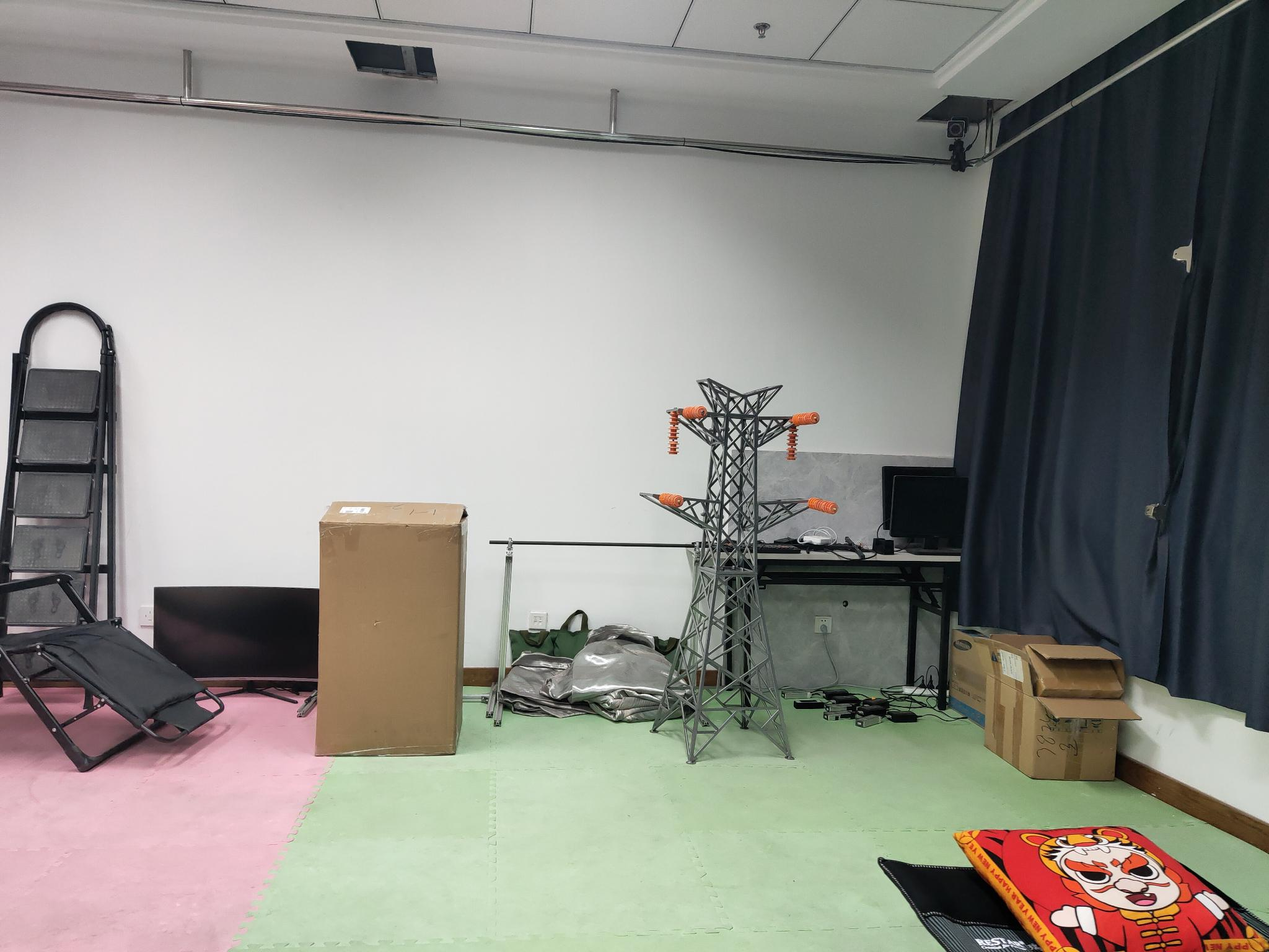tower: (642, 378, 799, 762)
